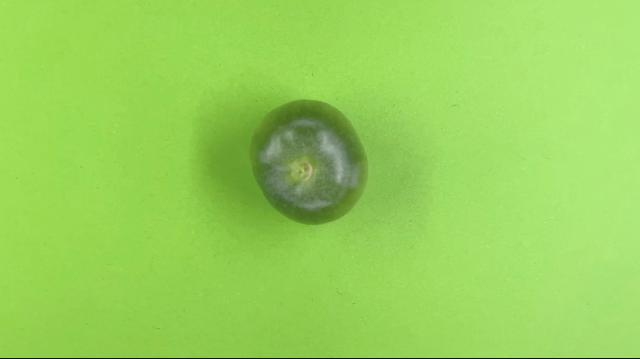Fruit Maturation: (246, 97, 372, 227)
